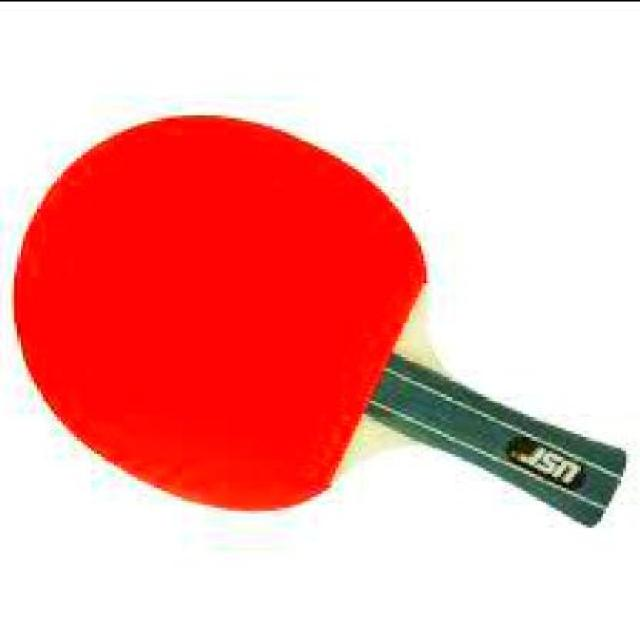table_tennis_racket: (7, 107, 431, 508)
